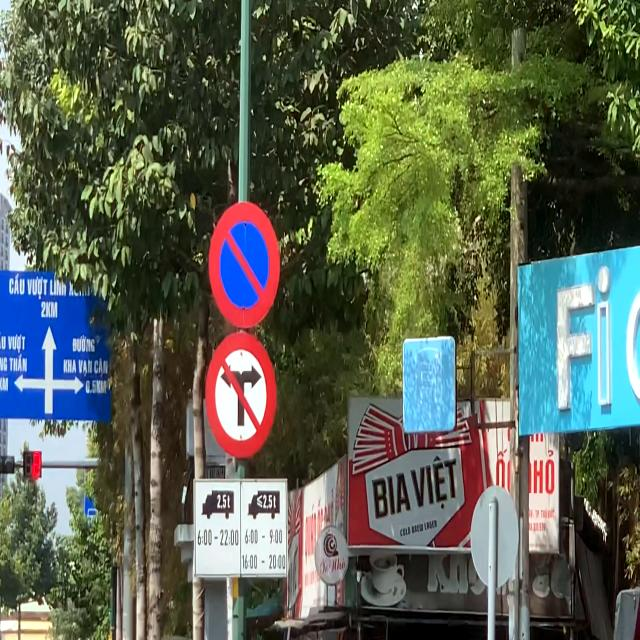P.131a: (207, 201, 281, 330)
P.137: (205, 332, 277, 459)
